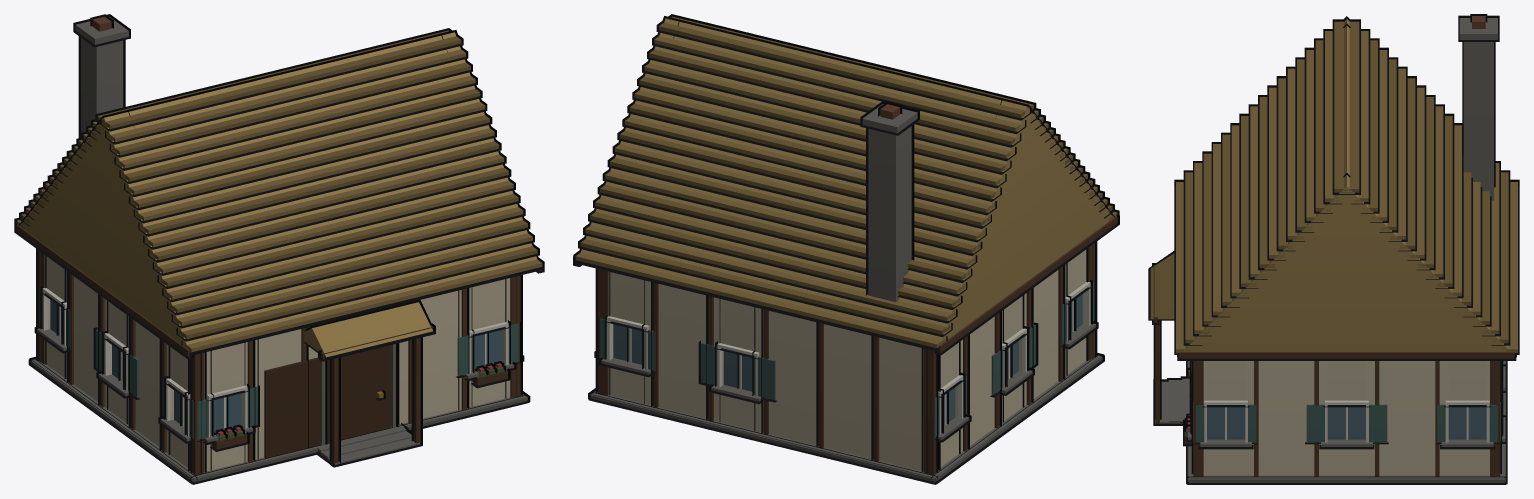
The model's file is town_cottage_shut.glb.
3 views of the same model, side by side, from view 1: azimuth 30°, elevation 25°; view 2: azimuth 150°, elevation 25°; view 3: azimuth 270°, elevation 25° (orthographic). The views are drawn at different scales.
Parts seen in each view (by area): view 1: prop; view 2: prop; view 3: prop.
Boxes of the visible parts, x1,y1,x2,y2 form: prop: (14,14,544,484); prop: (573,14,1119,484); prop: (1148,14,1519,484).
Size of the model in its own units: 10.02 by 9.23 by 9.22.
